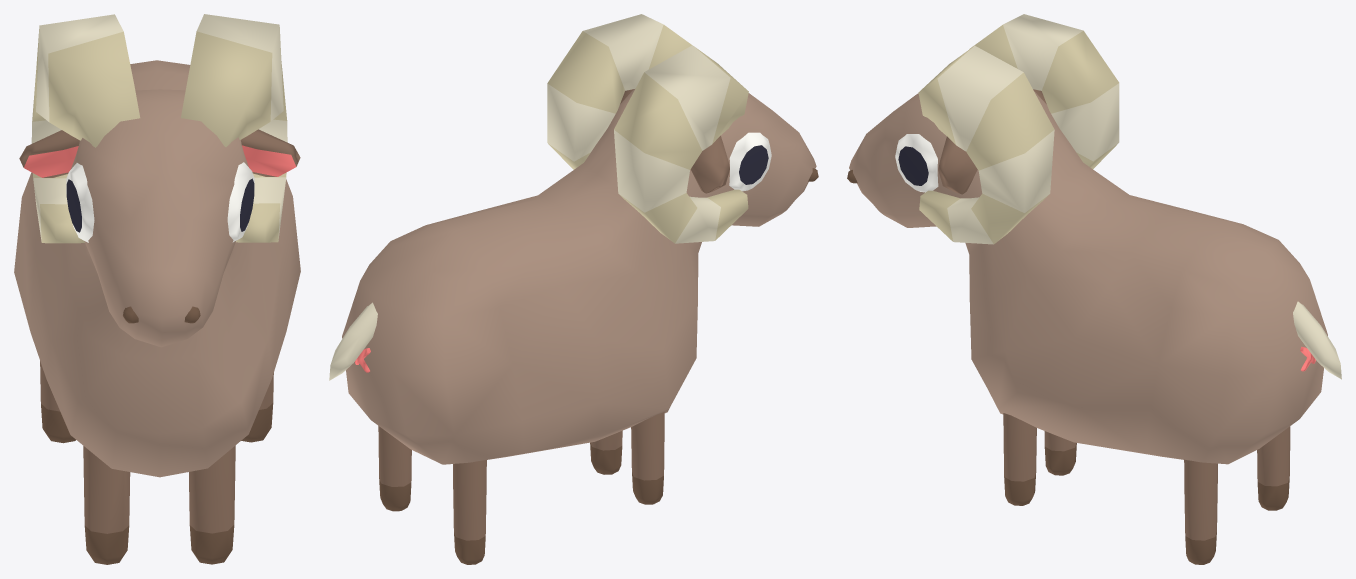
The model's file is ovisammon.gltf.
3 renders of one model, left to right at view 1: azimuth 30°, elevation 25°; view 2: azimuth 150°, elevation 25°; view 3: azimuth 270°, elevation 25°, orthographic. The views are drawn at different scales.
Parts seen in each view (by area): view 1: huitugou_5168_42; view 2: huitugou_5168_42; view 3: huitugou_5168_42.
Boxes of the visible parts, bbox=[...] form: huitugou_5168_42: bbox=[14, 14, 300, 564]; huitugou_5168_42: bbox=[329, 14, 818, 564]; huitugou_5168_42: bbox=[847, 14, 1341, 564].
Bounding box in the file's own units: 0.3954 × 0.5684 × 0.5786.
1 material, 1 textured.
